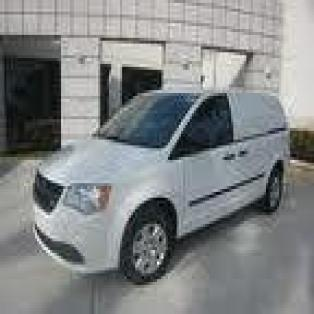Auto: (26, 84, 292, 288)
